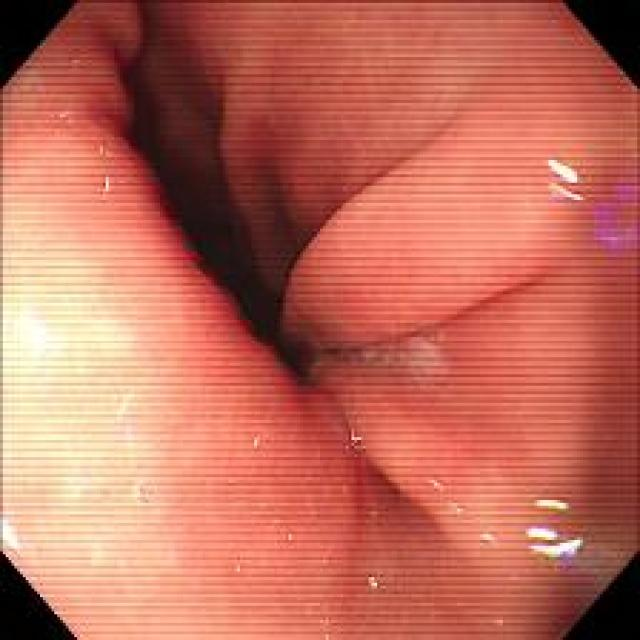bubbles: (121, 476, 158, 512)
color misalignment: (594, 169, 639, 252), (522, 520, 591, 570), (544, 175, 588, 211), (529, 489, 570, 518), (344, 425, 366, 454), (445, 498, 468, 520), (55, 104, 79, 125), (478, 528, 500, 549), (422, 474, 444, 492), (365, 568, 380, 590), (100, 172, 115, 192)
contrast: (95, 1, 346, 398)
saturation: (1, 98, 182, 620)
specularity: (540, 154, 579, 185)
